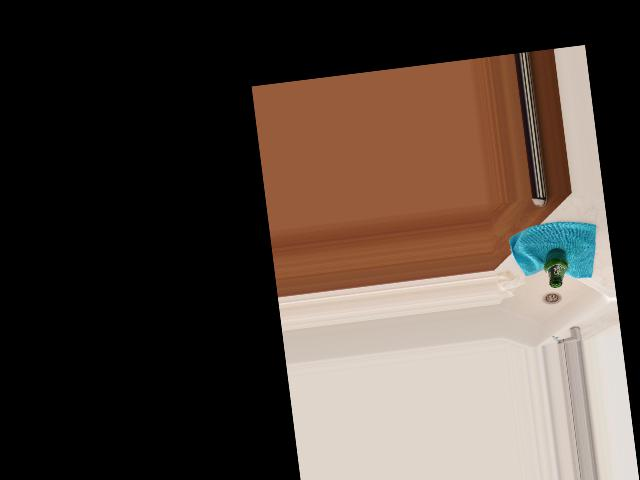beer: (541, 246, 570, 288)
